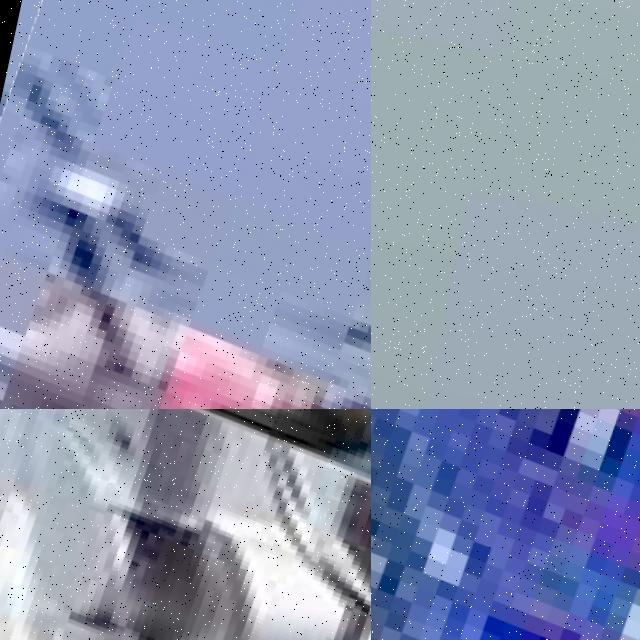0: (0, 0, 371, 409)
drone: (0, 409, 371, 640), (371, 409, 640, 640)
